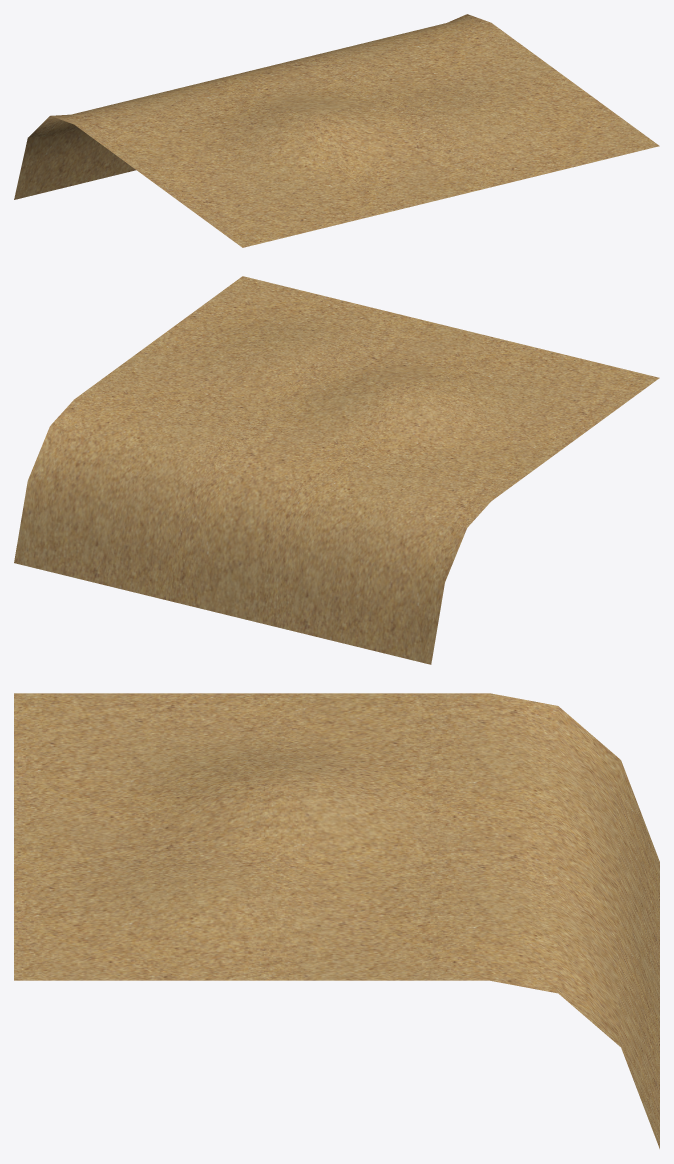
The model's file is backPath1.obj.
3 renders of one model, top to bottom at view 1: azimuth 30°, elevation 25°; view 2: azimuth 150°, elevation 25°; view 3: azimuth 270°, elevation 25°, orthographic. The views are drawn at different scales.
Parts seen in each view (by area): view 1: pPlane6; view 2: pPlane6; view 3: pPlane6.
Boxes of the visible parts, <box> form: pPlane6: <box>14,14,659,247</box>; pPlane6: <box>14,276,659,664</box>; pPlane6: <box>14,693,659,1148</box>.
Bounding box in the file's own units: 6 × 1.87 × 5.7.
1 material, 1 textured.
